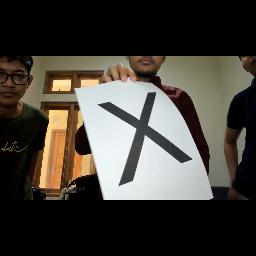x: (96, 88, 196, 190)
